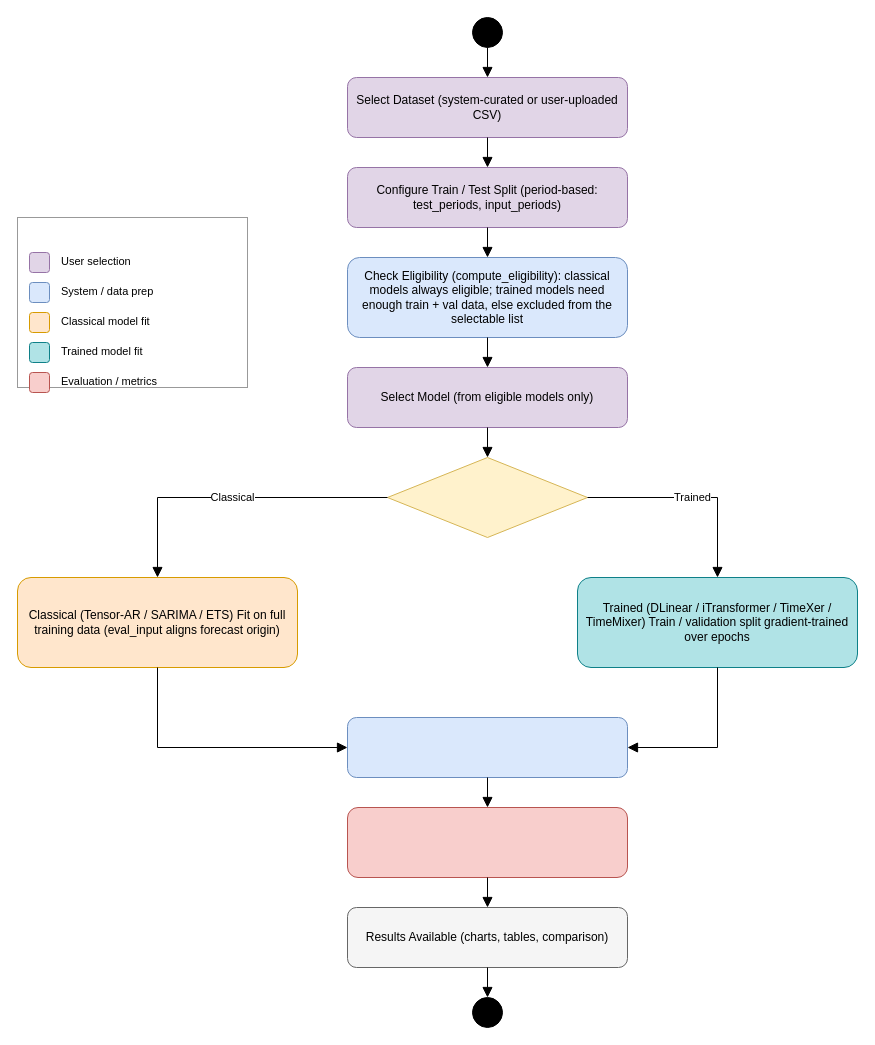
Image size: 875x1045. Some labels were removed from this diagram. The shapes that lost their labels are listed below. From the top down, each one's box as (x1, y1, x2, y2) in pixels, then its label:
(16, 216, 248, 388): Legend
(386, 456, 588, 538): Model Family?
(346, 716, 628, 778): Run Test: predict(eval_input) -> forecast
(346, 806, 628, 878): Calculate Metrics: R2, MSE, MAE, RMSE, MASE, sMAPE (per feature + averaged)
